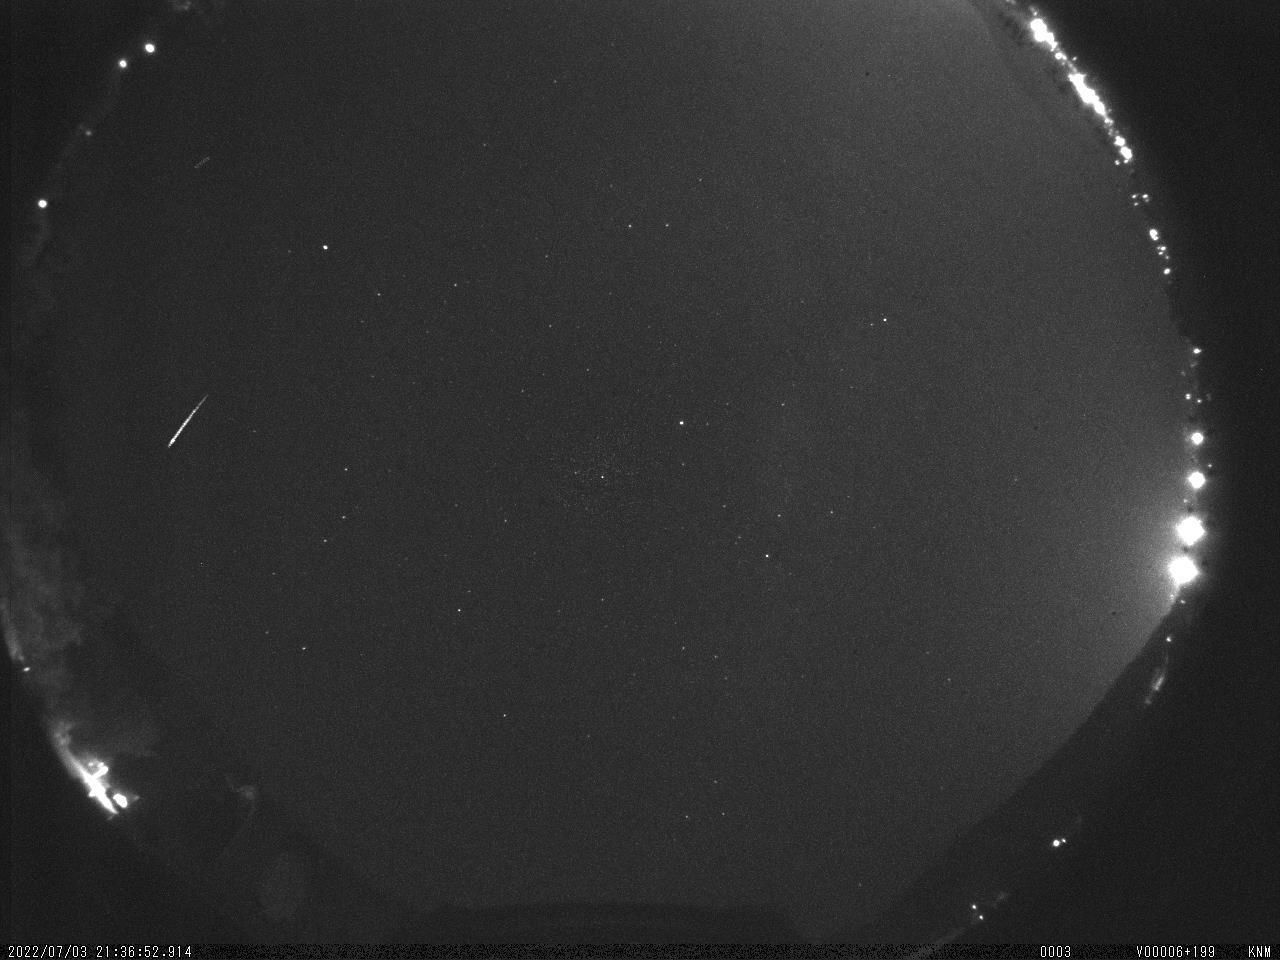Meteor: (164, 391, 210, 449)
